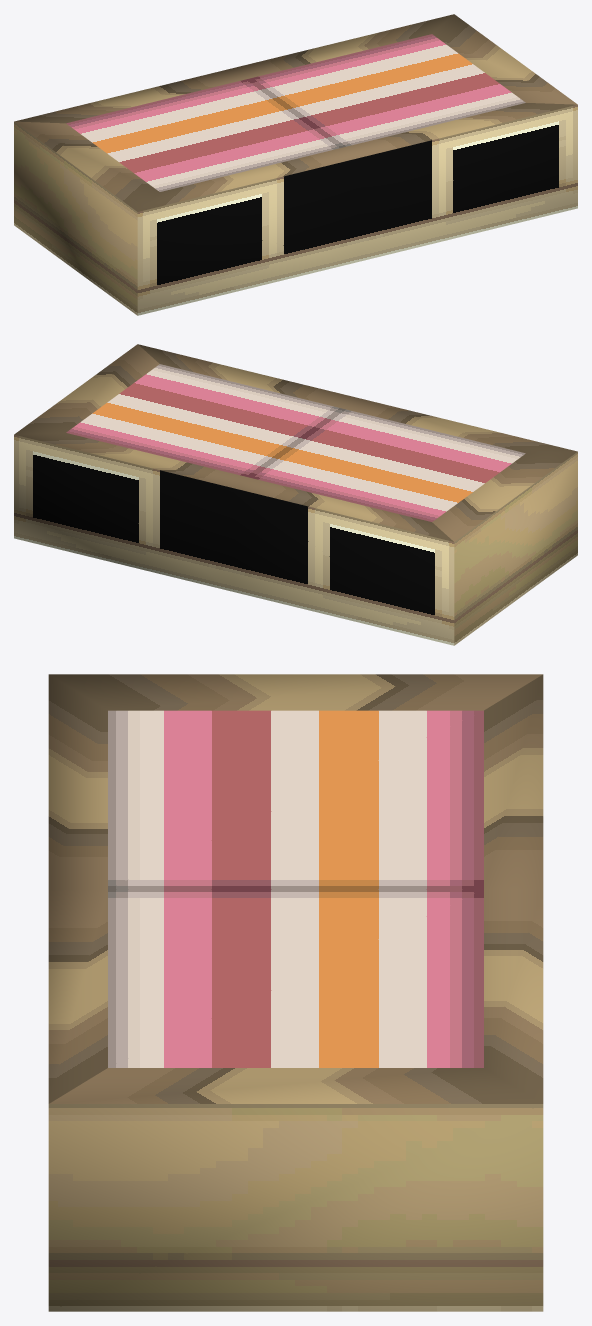
3 views of the same model, one above another, from view 1: azimuth 30°, elevation 25°; view 2: azimuth 150°, elevation 25°; view 3: azimuth 270°, elevation 25° (orthographic). The views are drawn at different scales.
Parts seen in each view (by area): view 1: 3128IMRL09_21; view 2: 3128IMRL09_21; view 3: 3128IMRL09_21.
Part boxes in pixels (<box>): 3128IMRL09_21: <box>14,14,577,315</box>; 3128IMRL09_21: <box>14,344,577,645</box>; 3128IMRL09_21: <box>48,674,543,1311</box>.
Size of the model in its own units: 1.95 by 0.4399 by 0.9502.
Materials: 3 (3 with a texture image).
